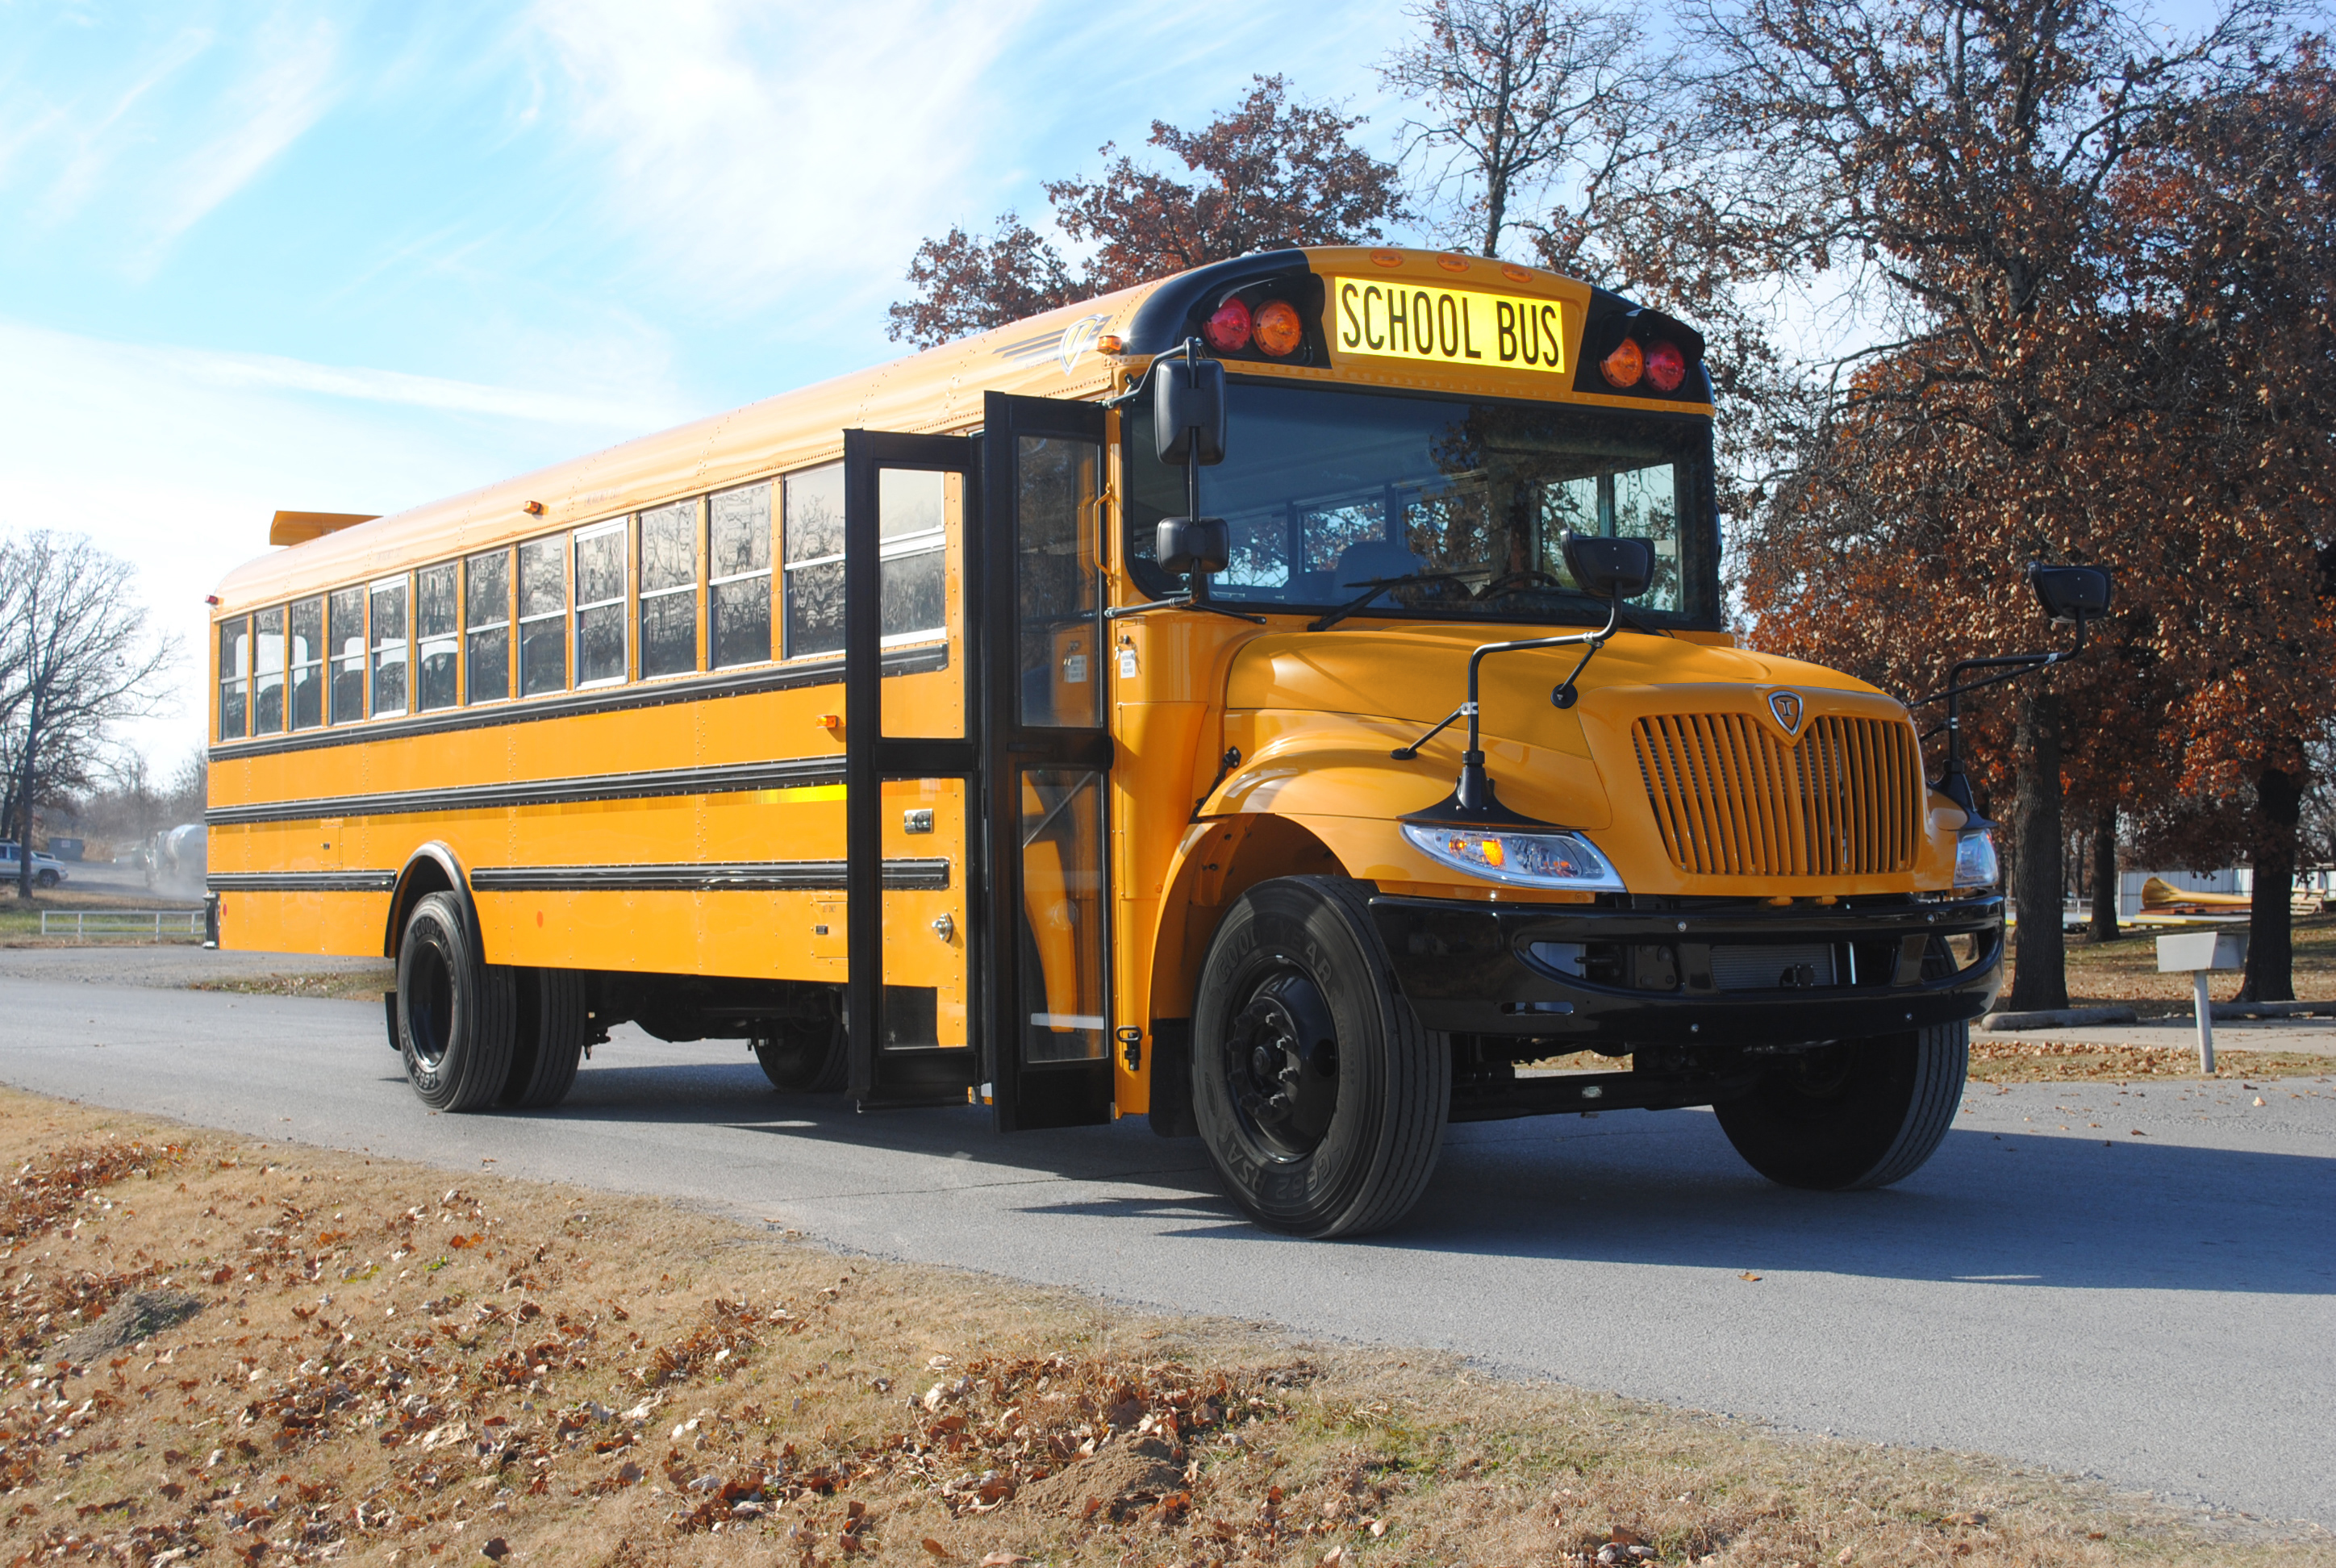bus: (205, 245, 2016, 1244)
